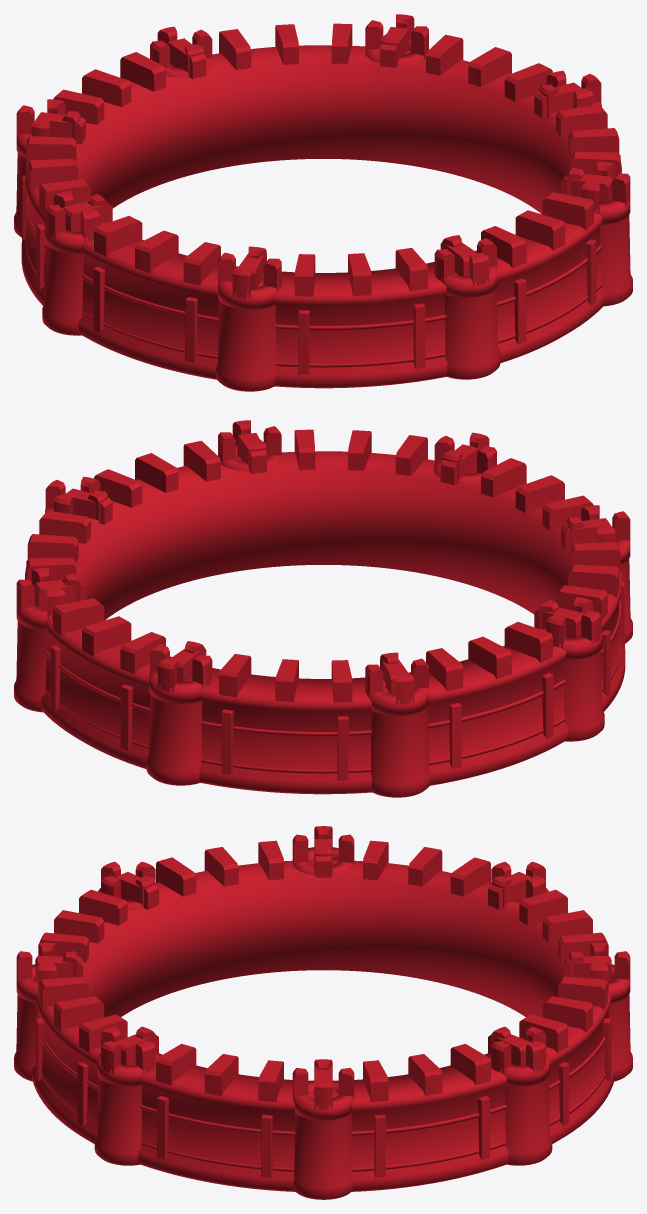
Rendered from city-wall-red.fbx.
3 views of the same model, one above another, from view 1: azimuth 30°, elevation 25°; view 2: azimuth 150°, elevation 25°; view 3: azimuth 270°, elevation 25° (orthographic). The views are drawn at different scales.
Parts seen in each view (by area): view 1: City_Wall_Moulded_Ring; view 2: City_Wall_Moulded_Ring; view 3: City_Wall_Moulded_Ring.
Boxes of the visible parts, bbox=[...] form: City_Wall_Moulded_Ring: bbox=[14, 14, 632, 391]; City_Wall_Moulded_Ring: bbox=[14, 420, 632, 797]; City_Wall_Moulded_Ring: bbox=[14, 826, 632, 1199].
Bounding box in the file's own units: 0.024 × 0.005 × 0.024.
